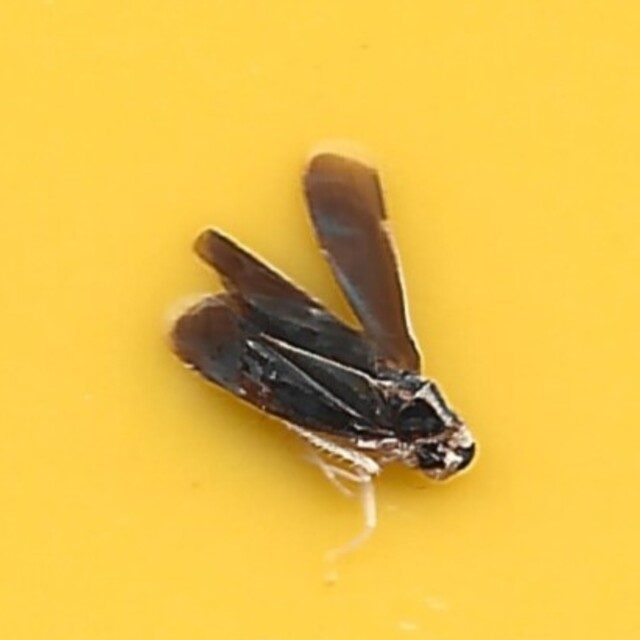Hemiptera: (156, 147, 484, 493)
